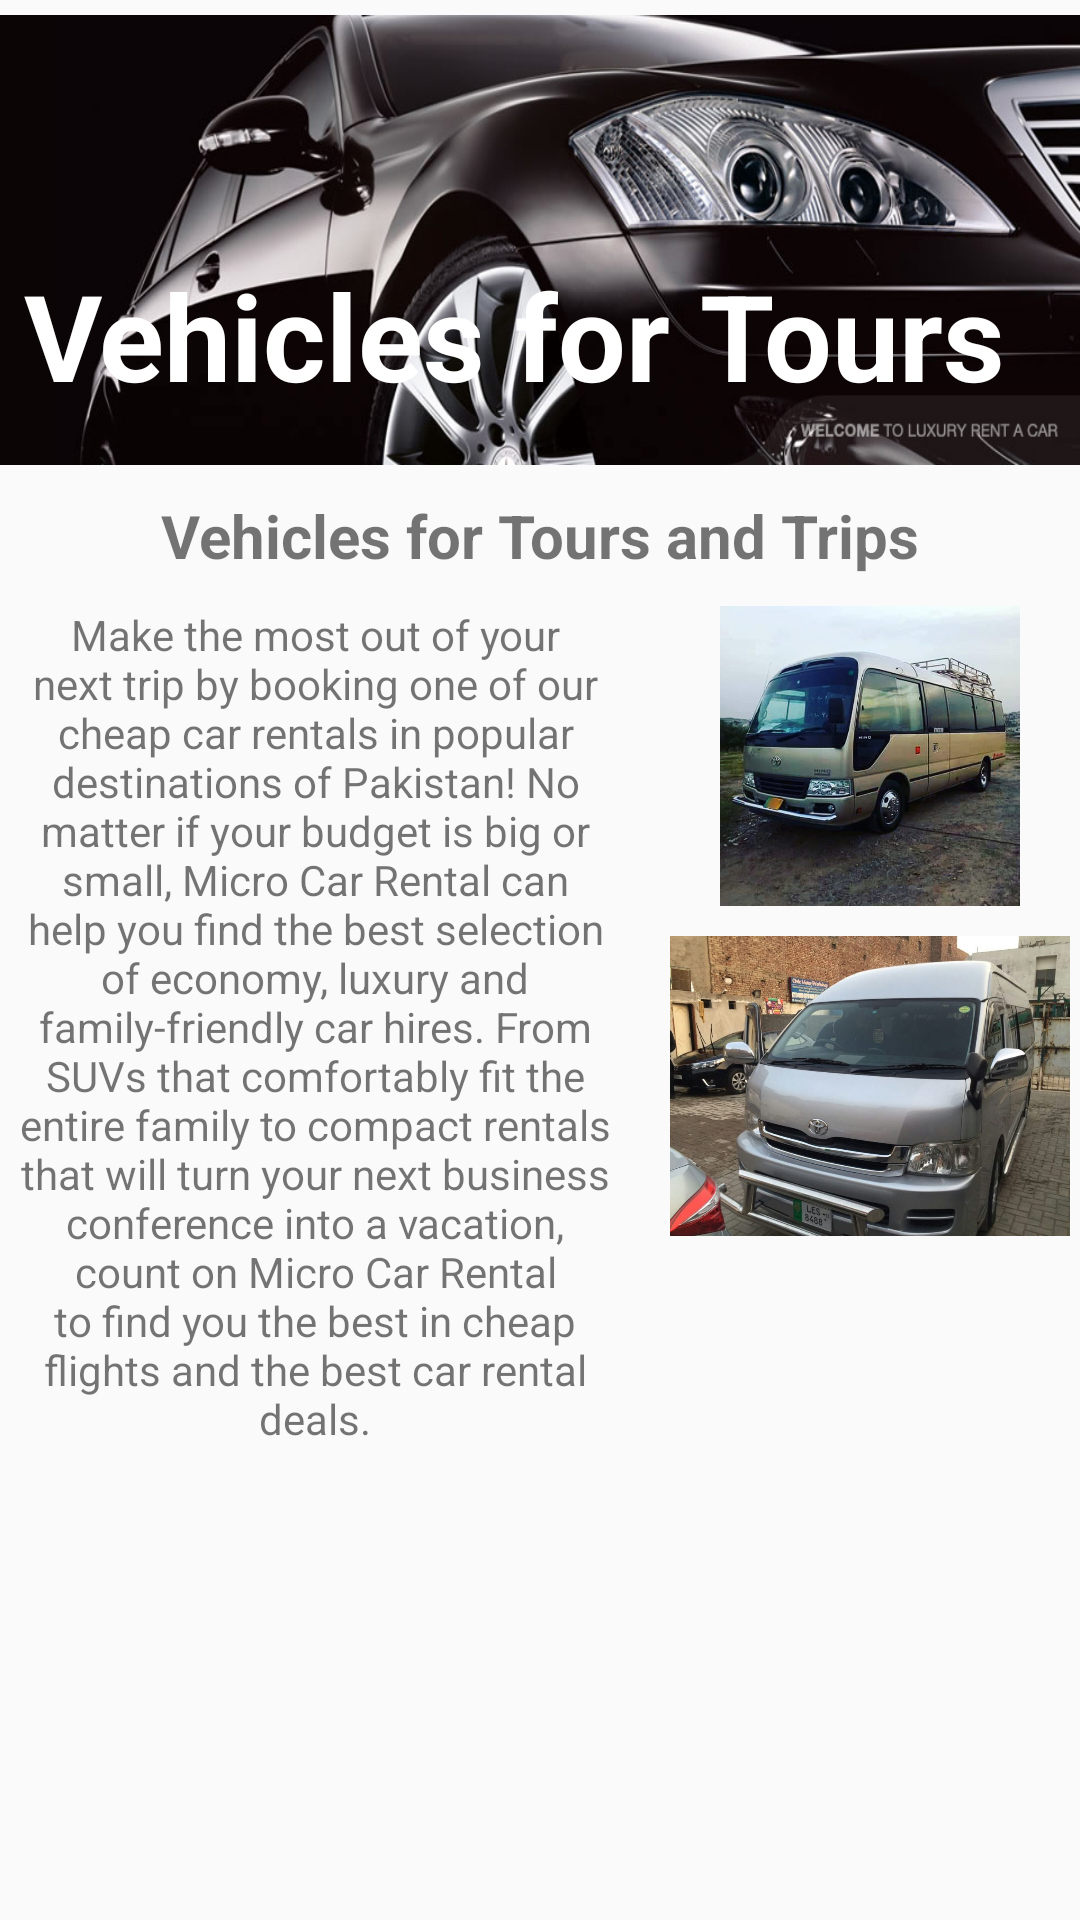

Where to tap for icons on this 1080 x 1920 app screen, as (x=x, y=y):
bus: (x=870, y=756)
